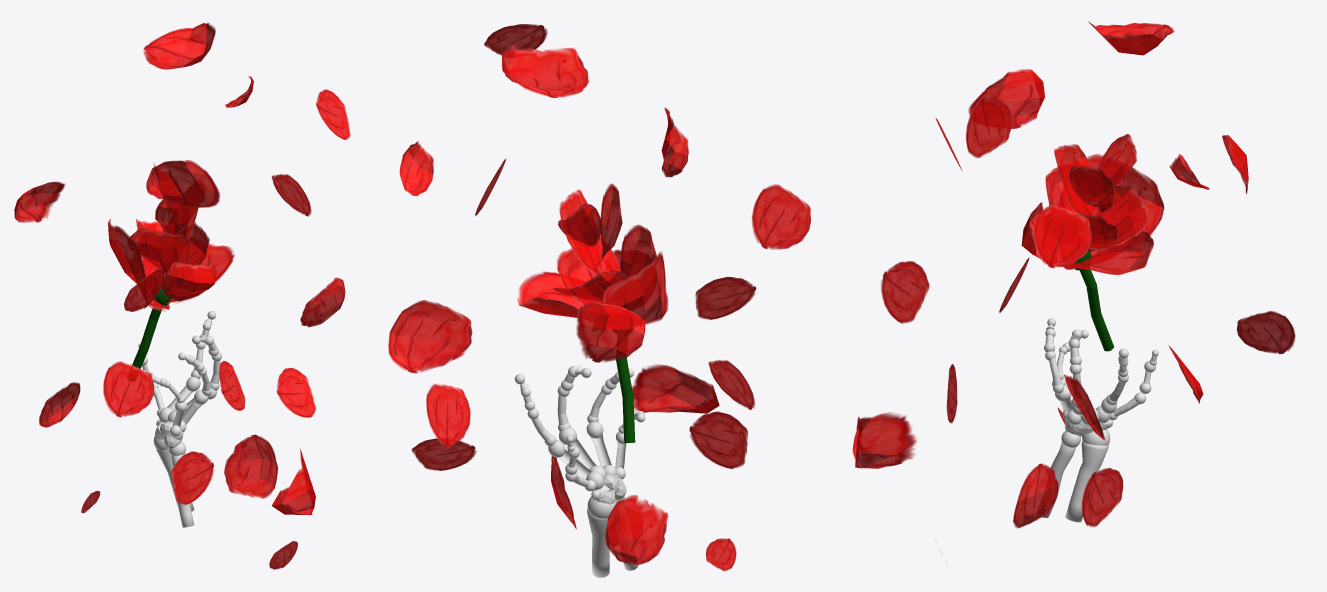
Rendered from rose1.glb.
3 views of the same model, side by side, from view 1: azimuth 30°, elevation 25°; view 2: azimuth 150°, elevation 25°; view 3: azimuth 270°, elevation 25° (orthographic). The views are drawn at different scales.
Parts seen in each view (by area): view 1: Plane.038, Plane.039, Plane.022, Plane.031, Plane.009, Plane.023, Plane.007, Plane.006, Plane.020, Plane.040, Plane.017, Plane.025 (+14 smaller); view 2: Plane.025, Plane.022, Plane.001, Plane.017, Plane.040, Plane.035, Plane.006, Plane.023, Plane.019, Plane.005, Plane.016, Plane.008 (+18 smaller); view 3: Plane.040, Plane.015, Plane.038, Plane.016, Plane.014, Plane.039, Plane.010, Plane.019, Plane.005, Plane.020, Plane.022, Plane.006 (+11 smaller).
Boxes of the visible parts, x1,y1,x2,y2 form: Plane.038: [146, 160, 219, 207]; Plane.039: [224, 434, 277, 498]; Plane.022: [143, 22, 215, 69]; Plane.031: [103, 361, 154, 417]; Plane.009: [129, 227, 190, 274]; Plane.023: [171, 451, 214, 504]; Plane.007: [162, 262, 216, 300]; Plane.006: [108, 218, 169, 311]; Plane.020: [276, 368, 315, 417]; Plane.040: [271, 449, 315, 514]; Plane.017: [14, 181, 65, 222]; Plane.025: [300, 277, 345, 327]; Plane.025: [388, 300, 472, 373]; Plane.022: [501, 45, 589, 97]; Plane.001: [605, 495, 668, 564]; Plane.017: [576, 302, 645, 362]; Plane.040: [632, 364, 719, 413]; Plane.035: [751, 184, 810, 249]; Plane.006: [600, 251, 668, 325]; Plane.023: [689, 411, 747, 468]; Plane.019: [426, 383, 470, 447]; Plane.005: [517, 271, 617, 328]; Plane.016: [695, 277, 756, 319]; Plane.008: [557, 236, 620, 309]; Plane.040: [852, 412, 916, 468]; Plane.015: [1033, 204, 1091, 268]; Plane.038: [968, 69, 1044, 128]; Plane.016: [881, 261, 929, 323]; Plane.014: [966, 97, 1012, 157]; Plane.039: [1013, 463, 1058, 528]; Plane.010: [1088, 185, 1149, 250]; Plane.019: [1237, 311, 1295, 353]; Plane.005: [1055, 231, 1153, 274]; Plane.020: [1081, 468, 1123, 527]; Plane.022: [1088, 21, 1174, 55]; Plane.006: [1061, 154, 1164, 269].
Bounding box in the file's own units: 6.84 × 10.97 × 8.06.
Materials: 29 (27 with a texture image).
